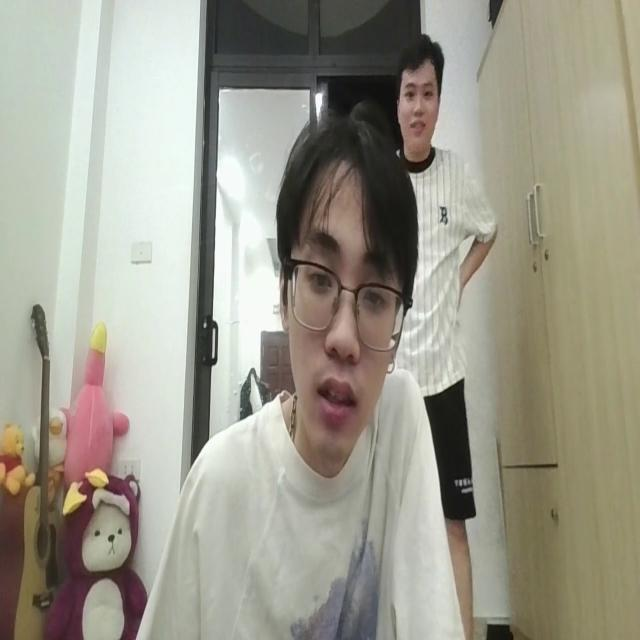extra_person: (395, 42, 501, 469)
student: (133, 99, 466, 640)
